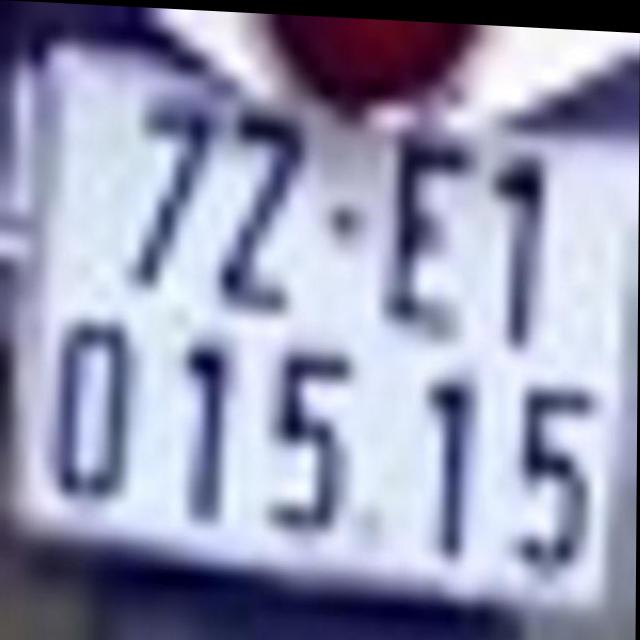0: (54, 315, 146, 512)
1: (174, 330, 232, 521), (427, 351, 475, 556), (503, 148, 547, 342)
5: (276, 344, 354, 545), (519, 370, 594, 579)
7: (131, 93, 203, 291)
E: (395, 133, 466, 342)
Z: (229, 106, 308, 310)
